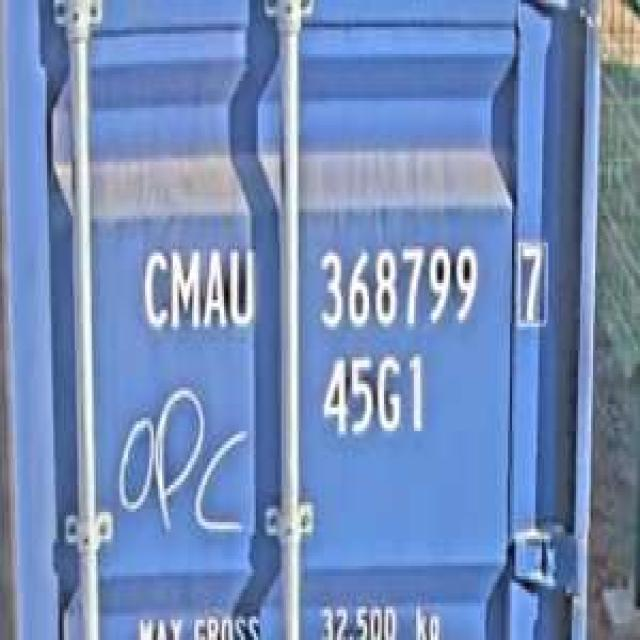dv: (512, 233, 553, 330)
owner: (135, 236, 258, 337)
serial: (314, 236, 482, 333)
size: (316, 347, 431, 441)
